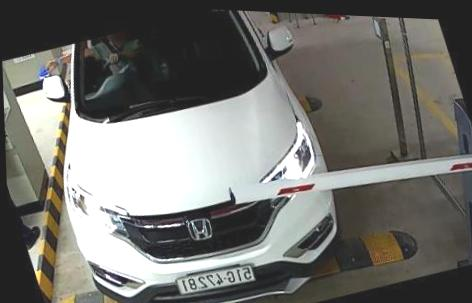License_Plate: (168, 253, 260, 303)
